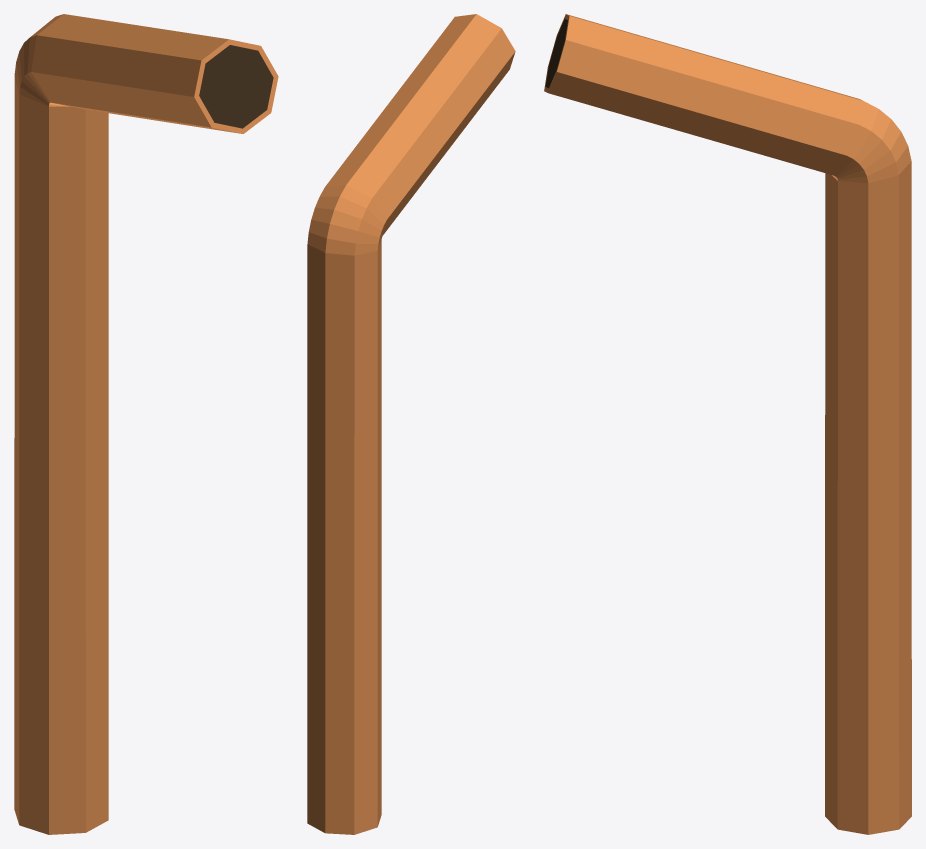
File: straw_yellow.fbx
3 renders of one model, left to right at view 1: azimuth 30°, elevation 25°; view 2: azimuth 150°, elevation 25°; view 3: azimuth 270°, elevation 25°, orthographic. The views are drawn at different scales.
Visible parts, largest first — view 1: Cylinder; view 2: Cylinder; view 3: Cylinder.
Boxes of the visible parts, box(x1,y1,x2,y2) form: Cylinder: box(14, 14, 278, 834); Cylinder: box(307, 14, 515, 834); Cylinder: box(544, 14, 911, 834).
Size of the model in its own units: 126 by 1285 by 535.
